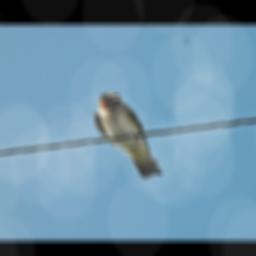Swallow: (93, 90, 165, 179)
